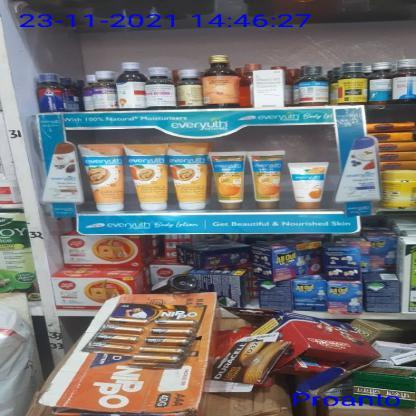EY ADVANCED GOLDEN GLOW PEEL OFF M- 90G: (248, 152, 284, 210), (212, 152, 246, 210)
EY EXF WALNUT SCRUB AYR 200G: (80, 143, 126, 211)
EY HYD-EXF WALNT APR SCRUB AYR100G: (170, 143, 210, 210), (130, 144, 170, 210)
EY NAT GLOW ORANGE PEEL OFF AY 90G: (288, 162, 326, 210)
